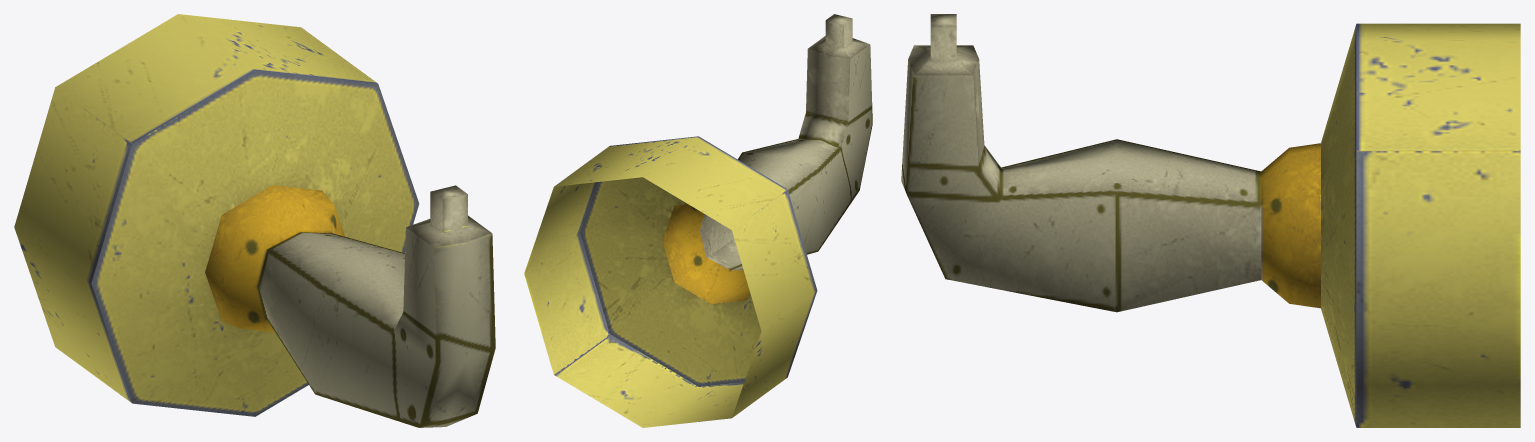
The model's file is wall base.fbx.
3 renders of one model, left to right at view 1: azimuth 30°, elevation 25°; view 2: azimuth 150°, elevation 25°; view 3: azimuth 270°, elevation 25°, orthographic. The views are drawn at different scales.
Parts seen in each view (by area): view 1: polySurface16; view 2: polySurface16; view 3: polySurface16.
Boxes of the visible parts, left/top/right/bottom form: polySurface16: left=14, top=14, right=495, bottom=427; polySurface16: left=524, top=14, right=872, bottom=427; polySurface16: left=901, top=14, right=1520, bottom=427.
Bounding box in the file's own units: 0.5301 × 0.5653 × 0.8147.
